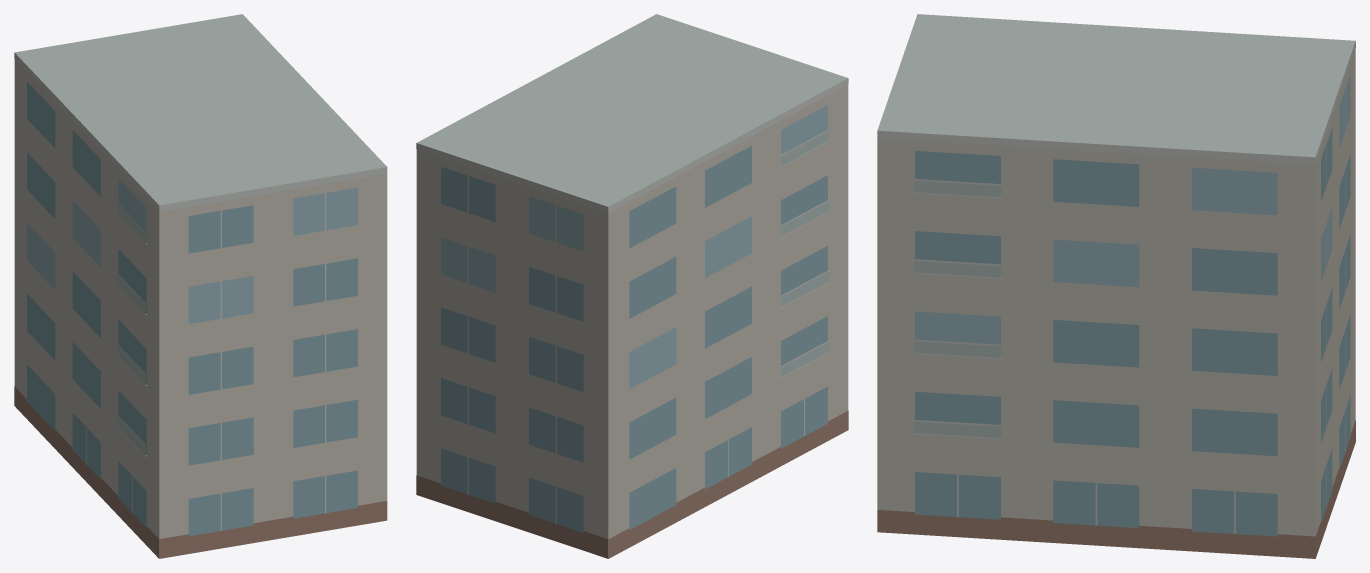
Rendered from survey-upis-32740488.glb.
3 views of the same model, side by side, from view 1: azimuth 30°, elevation 25°; view 2: azimuth 150°, elevation 25°; view 3: azimuth 270°, elevation 25° (orthographic). The views are drawn at different scales.
Parts seen in each view (by area): view 1: survey-upis-32740488.tmp; view 2: survey-upis-32740488.tmp; view 3: survey-upis-32740488.tmp.
Boxes of the visible parts, x1,y1,x2,y2 form: survey-upis-32740488.tmp: (14, 14, 387, 558); survey-upis-32740488.tmp: (416, 14, 848, 558); survey-upis-32740488.tmp: (877, 14, 1355, 558).
Size of the model in its own units: 10.27 by 13.4 by 14.48.
